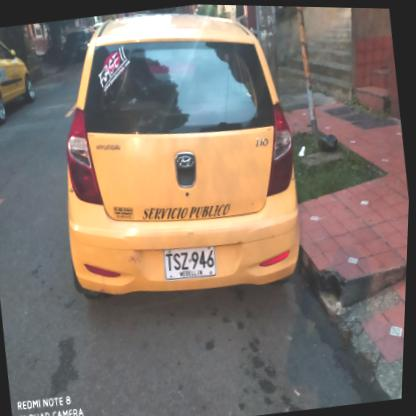placa: (159, 237, 226, 285)
